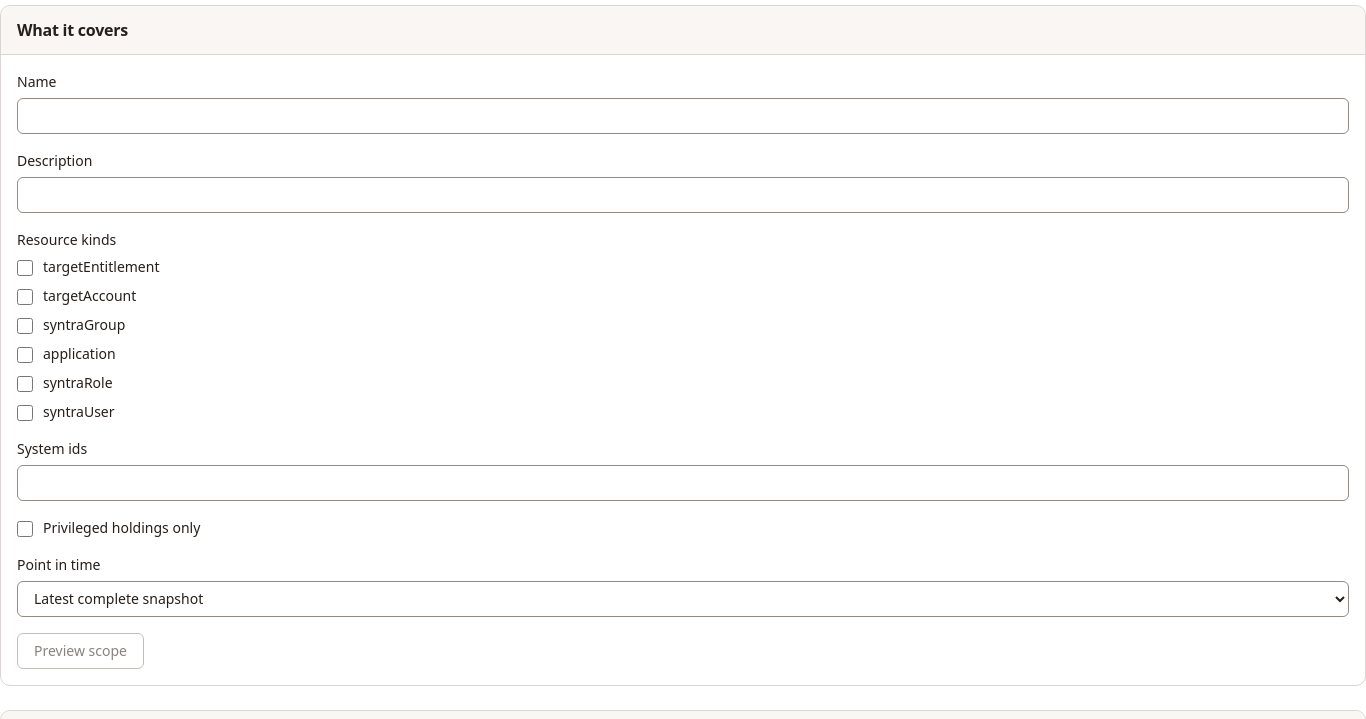
Test: creating a campaign › names the items that would resolve to nobody
Check: the field labelled "Name" is shown, box [17,98,1349,134]
Click the checkbox labelled "targetEntitlement".
click(25, 268)  # box [17,260,33,276]
(page scrolled)
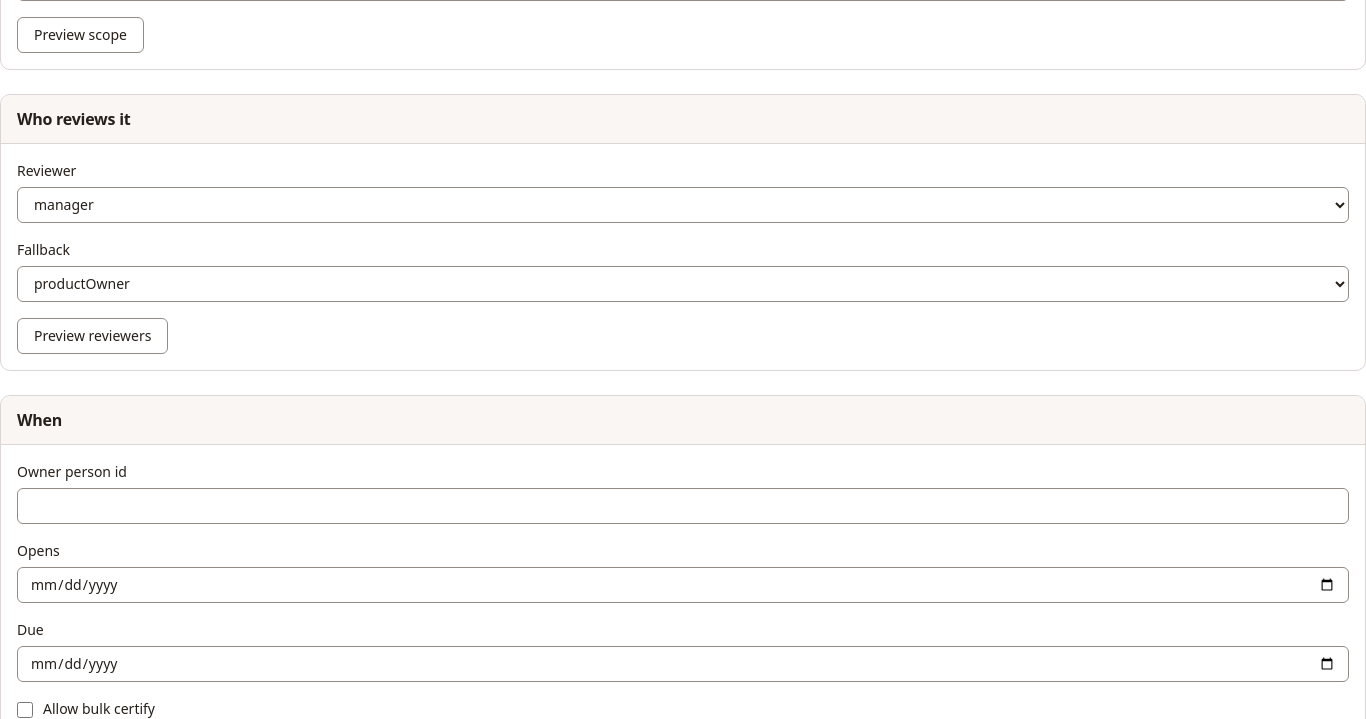
Click the button "Preview reviewers".
click(93, 336)  # box [17,318,168,354]
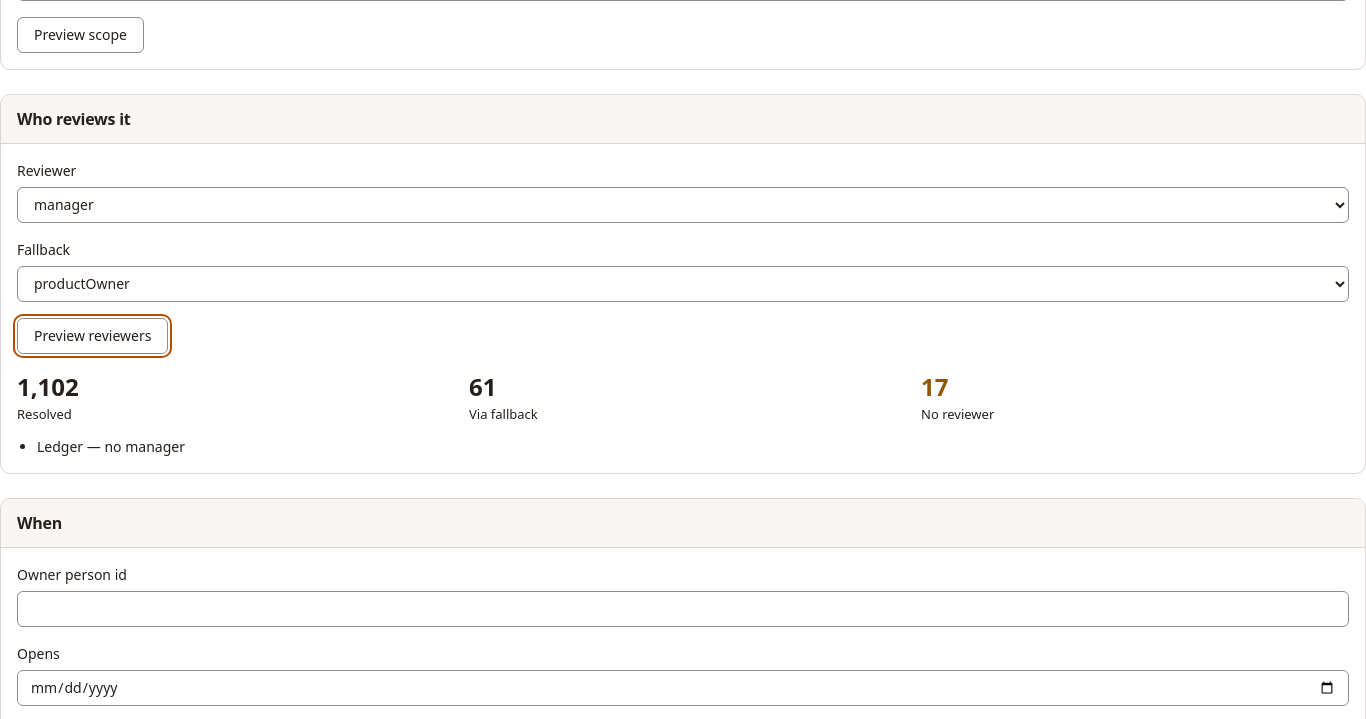
Check: the text "No reviewer" is shown, box [921,405,994,423]
Check: the text "17" is shown, box [921,370,948,403]
Check: the list item "Ledger — no manager" is shown, box [37,437,185,456]
